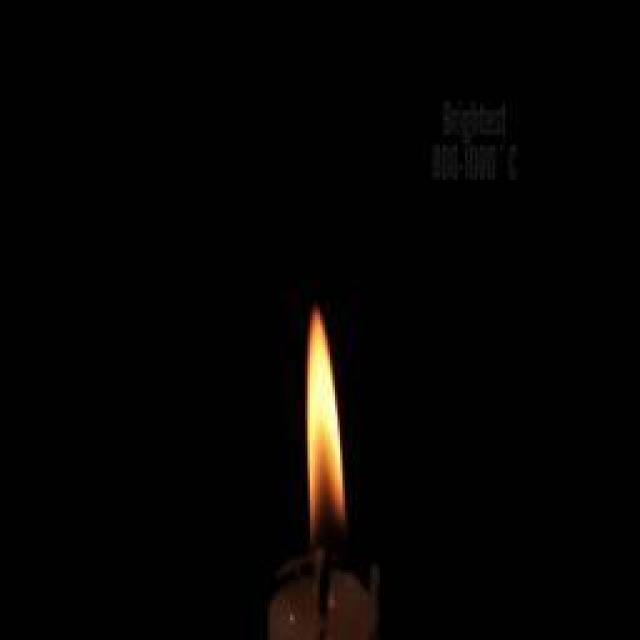Fire: (300, 314, 348, 532)
